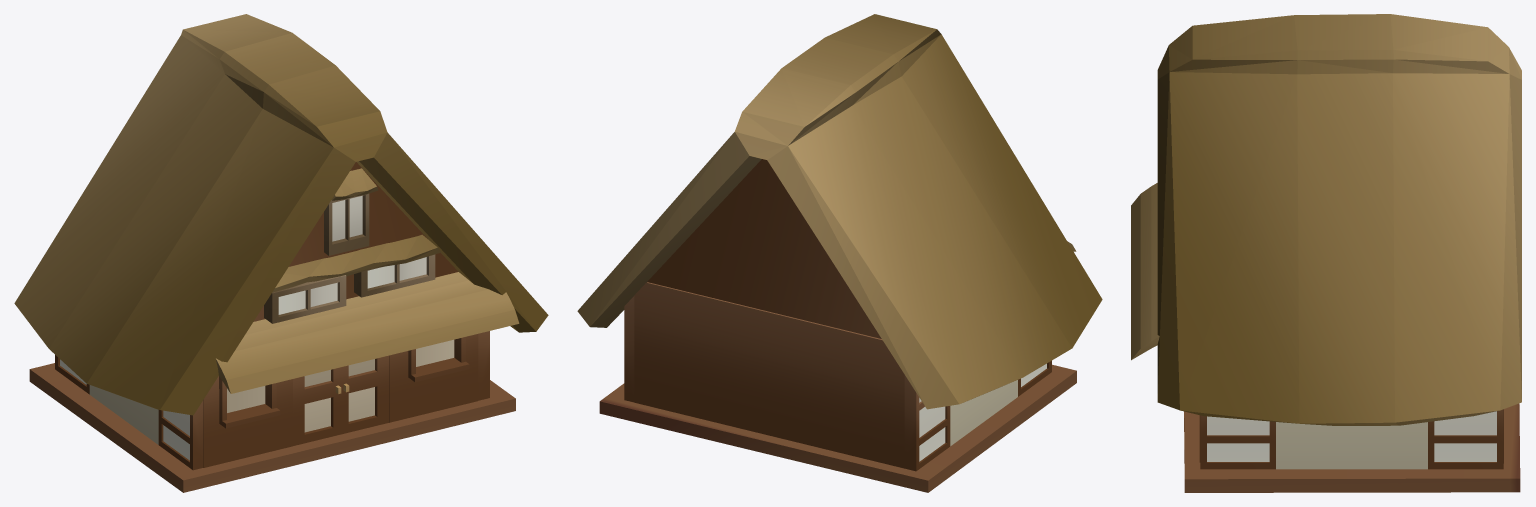
Rendered from House_Farmhouse.gltf.
3 views of the same model, side by side, from view 1: azimuth 30°, elevation 25°; view 2: azimuth 150°, elevation 25°; view 3: azimuth 270°, elevation 25° (orthographic). The views are drawn at different scales.
Visible parts, largest first — view 1: Farmhouse_RoofOnly.001, Farmhouse_LowerRoof.001, Farmhouse_DoorFrame.001, Farmhouse_Base.001, Farmhouse_2xWindows.001, Farmhouse_Gable.002, Farmhouse_Window.001, Farmhouse_Door_L.001, Farmhouse_Door_R.001, Farmhouse_Wall_1m.003, House_Wall_2m_White.005, Farmhouse_Wall_1m.001; view 2: Farmhouse_RoofOnly.001, Farmhouse_Wall_4m.001, Farmhouse_Gable.003, Farmhouse_Base.001, Farmhouse_Wall_1m.002, House_Wall_2m_White.005, Farmhouse_Wall_1m.004; view 3: Farmhouse_RoofOnly.001, Farmhouse_Base.001, House_Wall_2m_White.004, Farmhouse_LowerRoof.001, Farmhouse_Wall_1m.004, Farmhouse_Wall_1m.001.
Boxes of the visible parts, box(x1,y1,x2,y2) form: Farmhouse_RoofOnly.001: box(14, 14, 548, 415); Farmhouse_LowerRoof.001: box(215, 272, 519, 393); Farmhouse_DoorFrame.001: box(203, 334, 478, 467); Farmhouse_Base.001: box(29, 363, 515, 492); Farmhouse_2xWindows.001: box(264, 234, 441, 323); Farmhouse_Gable.002: box(253, 162, 458, 321); Farmhouse_Window.001: box(324, 168, 378, 255); Farmhouse_Door_L.001: box(293, 367, 341, 445); Farmhouse_Door_R.001: box(341, 355, 388, 434); Farmhouse_Wall_1m.003: box(158, 400, 203, 470); House_Wall_2m_White.005: box(89, 385, 158, 444); Farmhouse_Wall_1m.001: box(478, 331, 489, 400); Farmhouse_RoofOnly.001: box(577, 14, 1102, 409); Farmhouse_Wall_4m.001: box(634, 282, 904, 468); Farmhouse_Gable.003: box(647, 159, 881, 338); Farmhouse_Base.001: box(599, 364, 1076, 492); Farmhouse_Wall_1m.002: box(904, 375, 950, 471); House_Wall_2m_White.005: box(950, 380, 1017, 446); Farmhouse_Wall_1m.004: box(624, 296, 634, 402); Farmhouse_RoofOnly.001: box(1157, 14, 1521, 425); Farmhouse_Base.001: box(1184, 403, 1520, 492); House_Wall_2m_White.004: box(1276, 422, 1427, 469); Farmhouse_LowerRoof.001: box(1131, 183, 1159, 360); Farmhouse_Wall_1m.004: box(1428, 409, 1503, 469); Farmhouse_Wall_1m.001: box(1200, 415, 1275, 469).
Size of the model in its own units: 7.12 by 5.44 by 5.15.
1 material, 1 textured.
